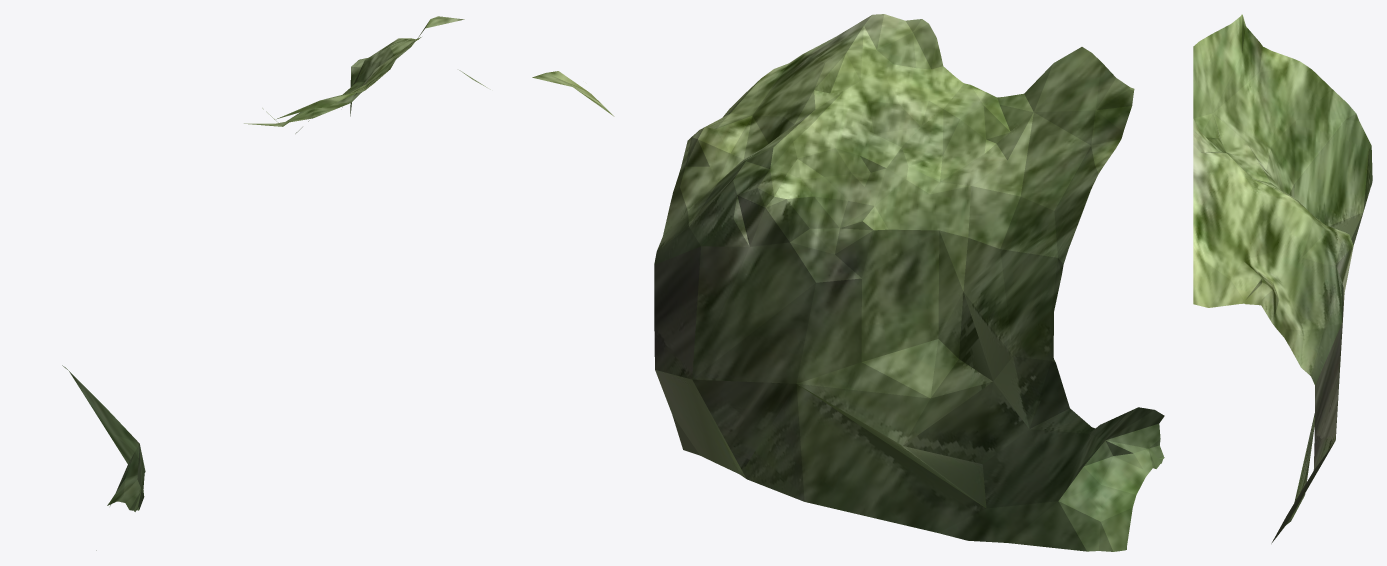
The picture shows the model from 3 angles, left to right: view 1: azimuth 30°, elevation 25°; view 2: azimuth 150°, elevation 25°; view 3: azimuth 270°, elevation 25°; orthographic projection. The views are drawn at different scales.
Size of the model in its own units: 2.95 by 2.95 by 1.31.
Materials: 3 (3 with a texture image).
